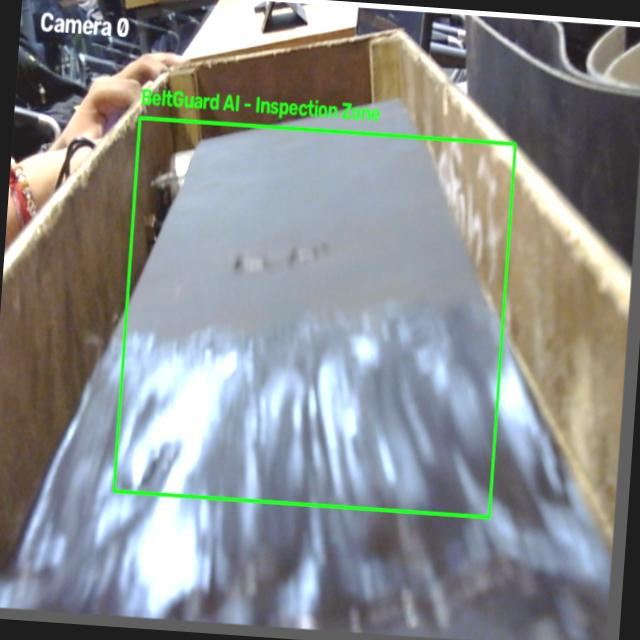eroded: (113, 335, 557, 627), (227, 242, 332, 273)
